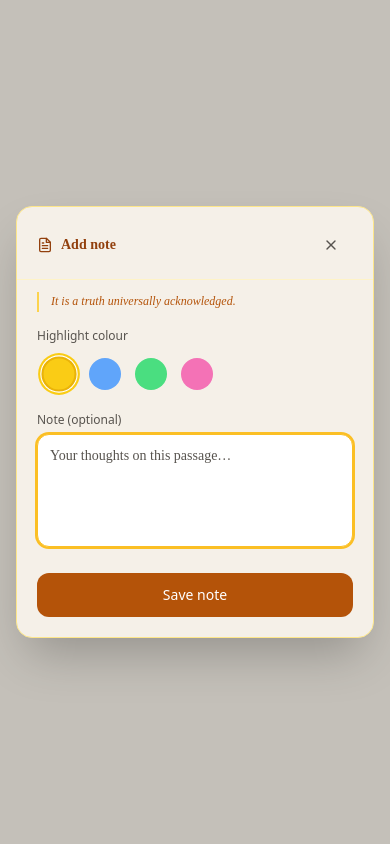
Scenario: AnnotationToolbar — handleSave error paths (line 91) › shows 'Save failed. Please try again.' when non-Error is thrown
This screenshot has width=390, height=844.
Click the button "Save note" at (195, 595), box [37, 573, 353, 617]
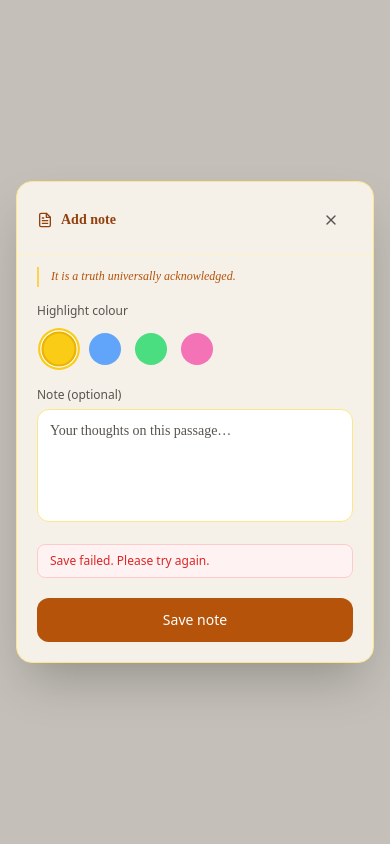
Expected: the text "Save failed. Please try again." is shown, [37, 544, 353, 578]
